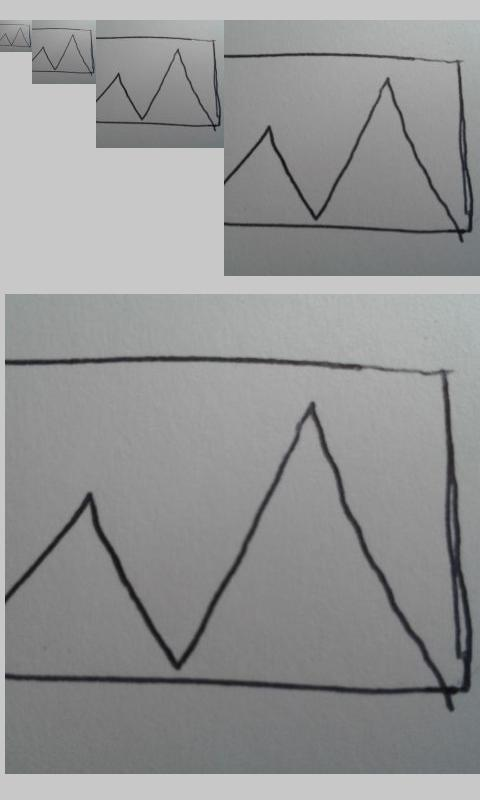image_view: (1, 352, 470, 698), (225, 52, 474, 235), (97, 34, 221, 129), (32, 27, 95, 74), (1, 23, 31, 48)
